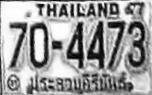0: (29, 22, 48, 68)
3: (126, 20, 145, 67)
4: (87, 20, 104, 68), (66, 22, 83, 68)
7: (8, 21, 27, 68), (107, 20, 124, 68)
PKN: (29, 70, 130, 94)
